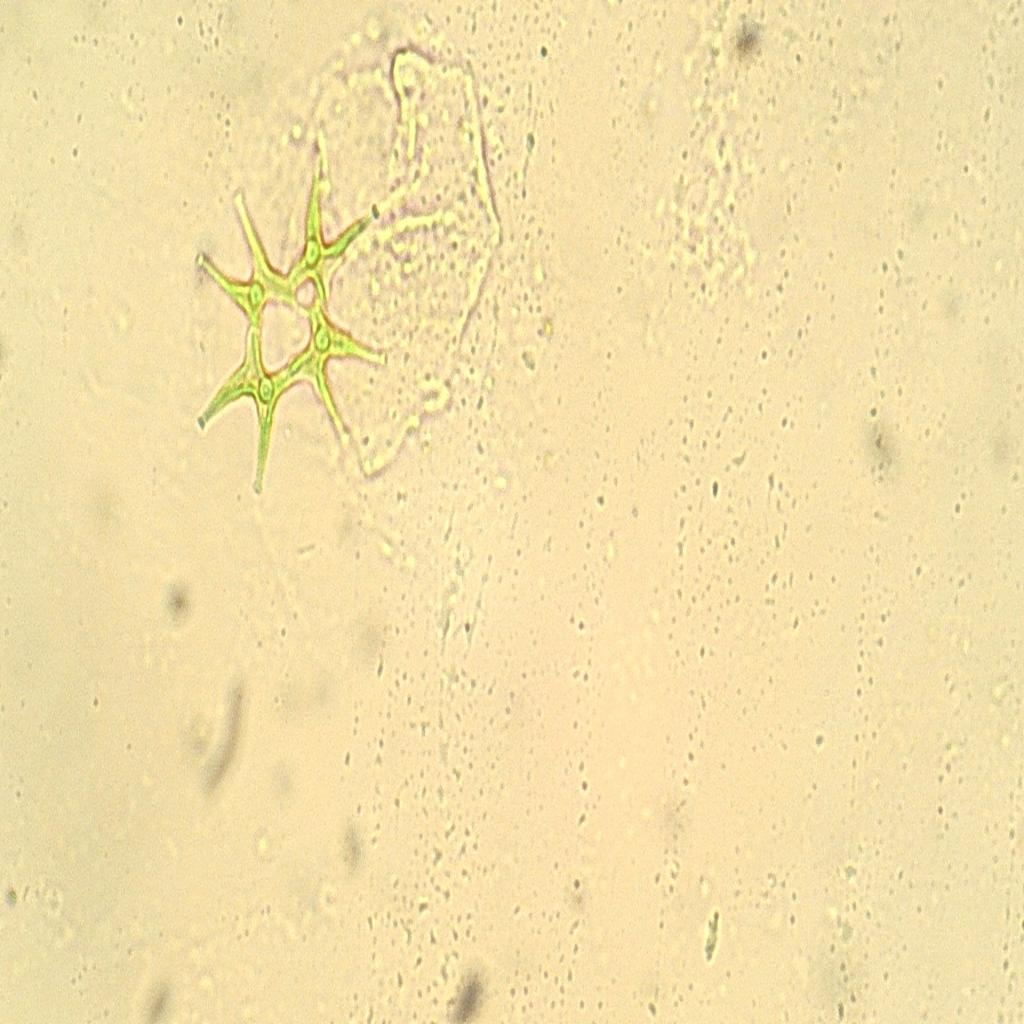Pediastrum_CF: (184, 122, 403, 516)
